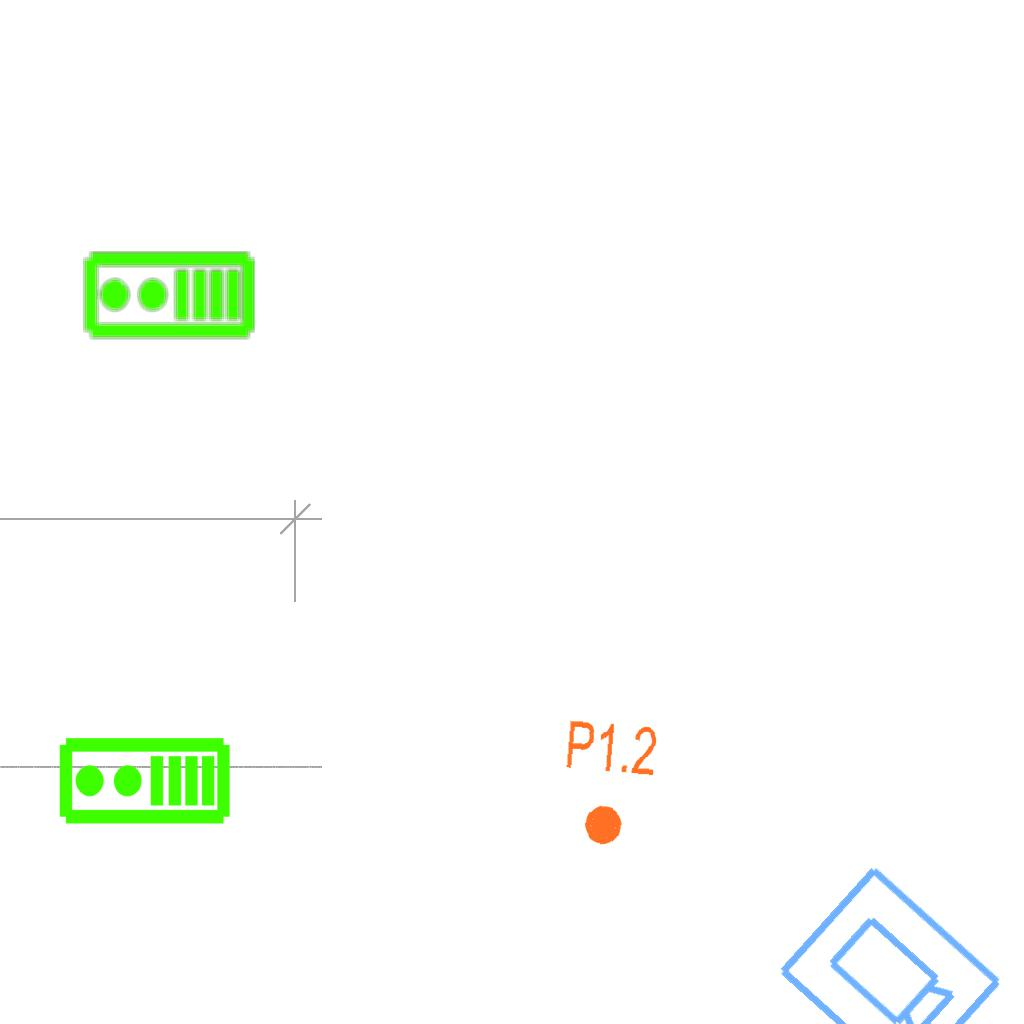Downlight_LED_Einbauleuchten_Flur: (556, 716, 661, 852)
Gegensprechanlage_mit_Video: (56, 735, 232, 830), (81, 249, 257, 344)
KFO_Kamera_mit_Festobjektiv: (769, 858, 1009, 1024)
